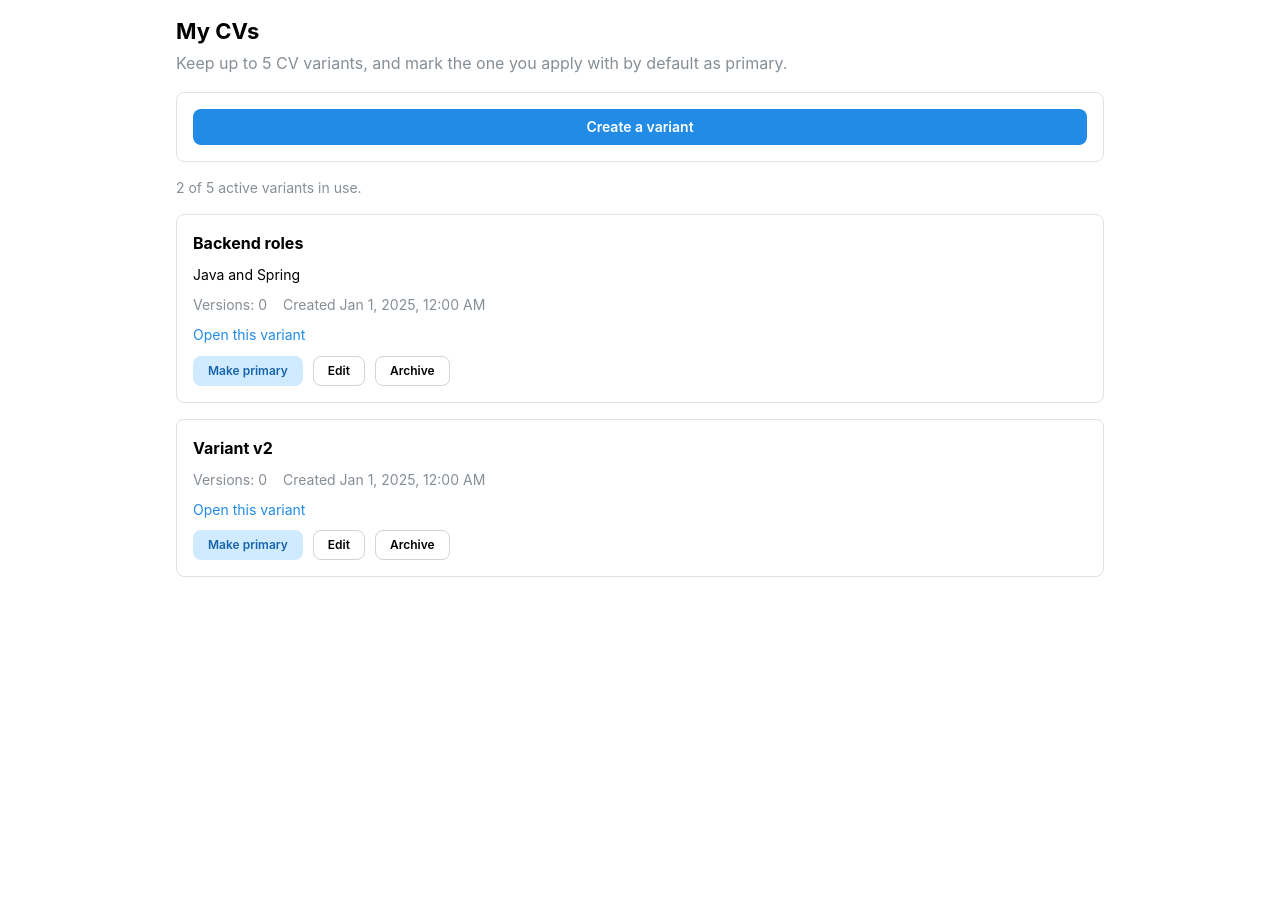
Test: the edit control (Req 11 AC4) › patches the changed name only
Click the button with test id "variant-edit-v1". click: [339, 371]
box: [313,356,365,386]
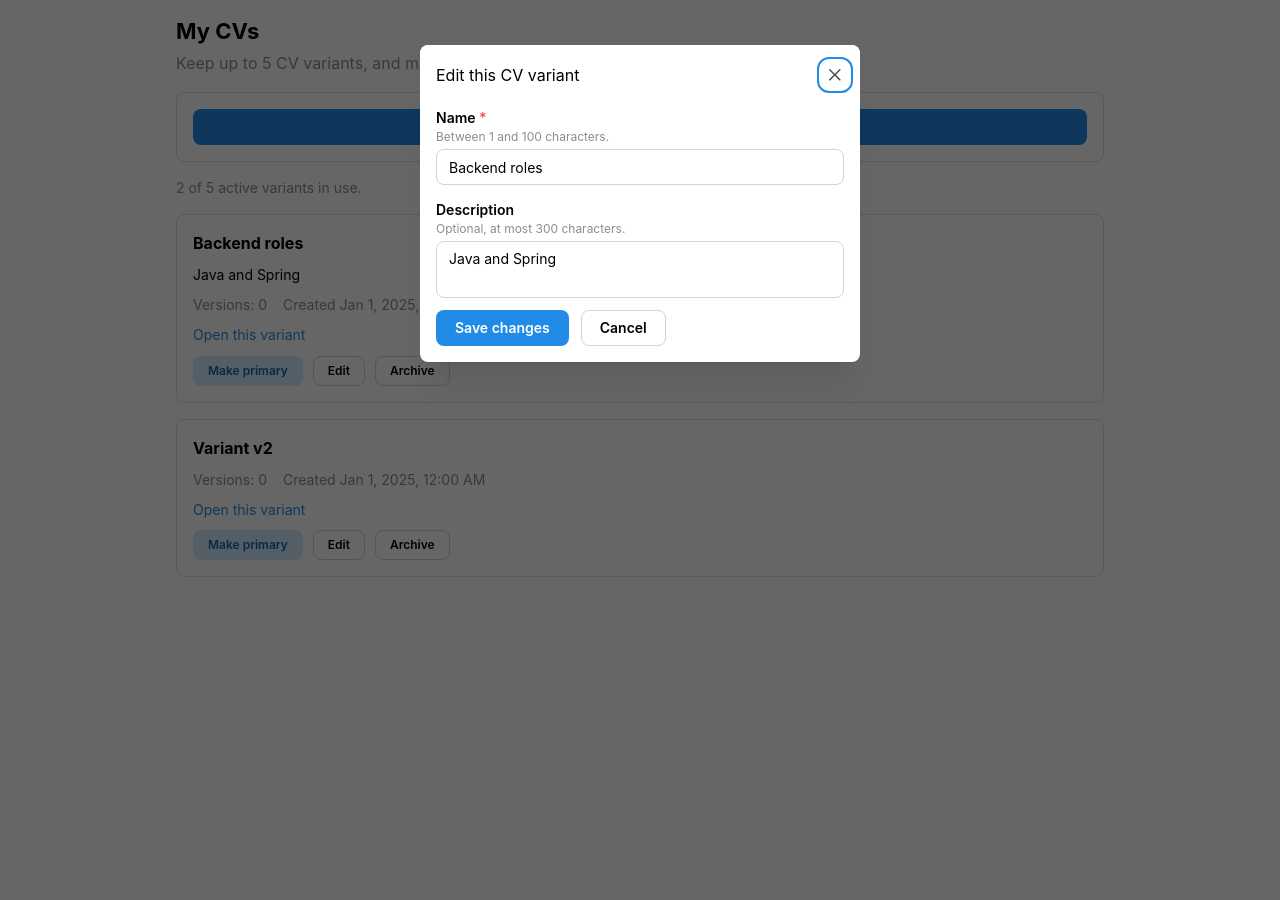
Clear the field with test id "variant-edit-name". click: [640, 167]
box: [436,149,844,185]
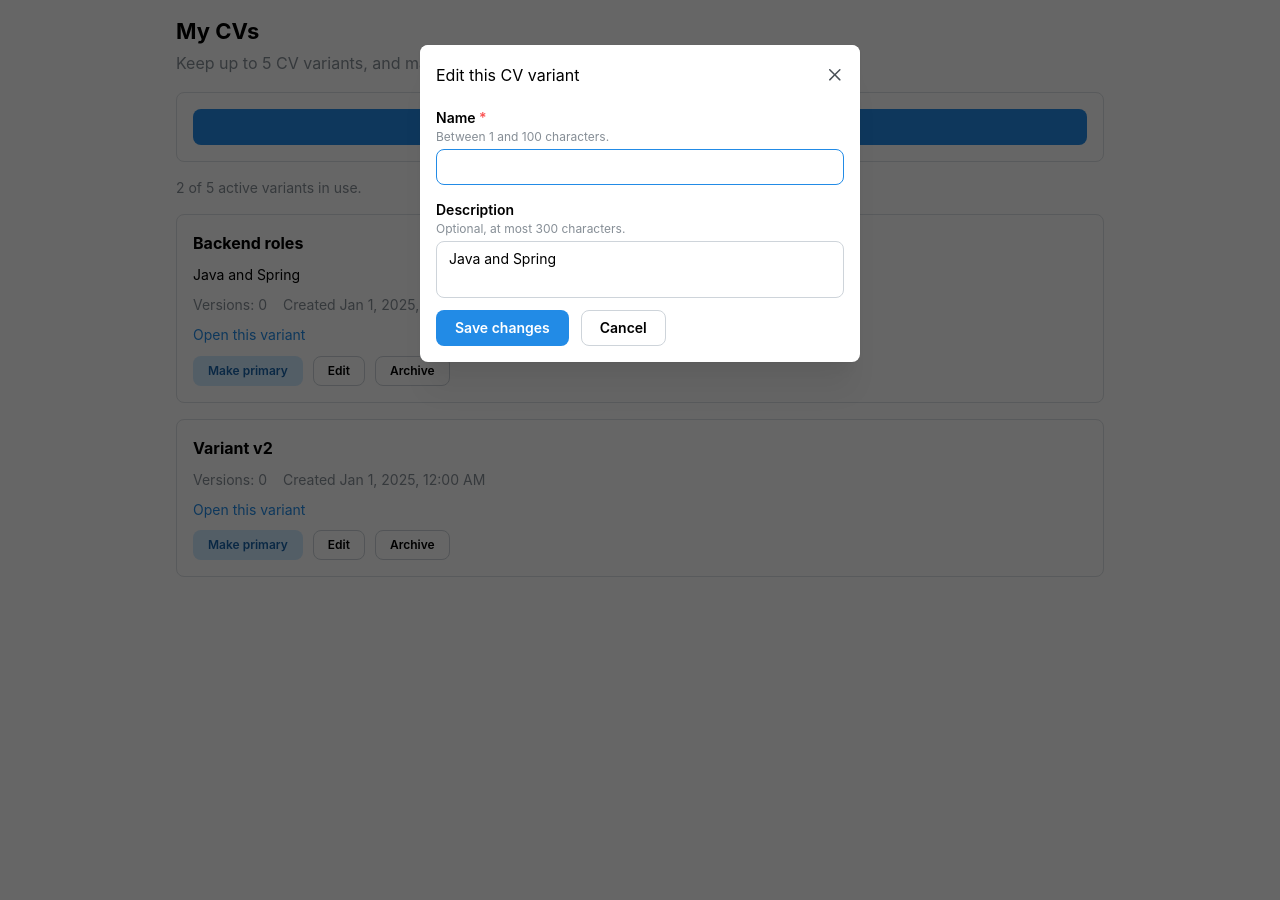
Type keys "Platform roles"
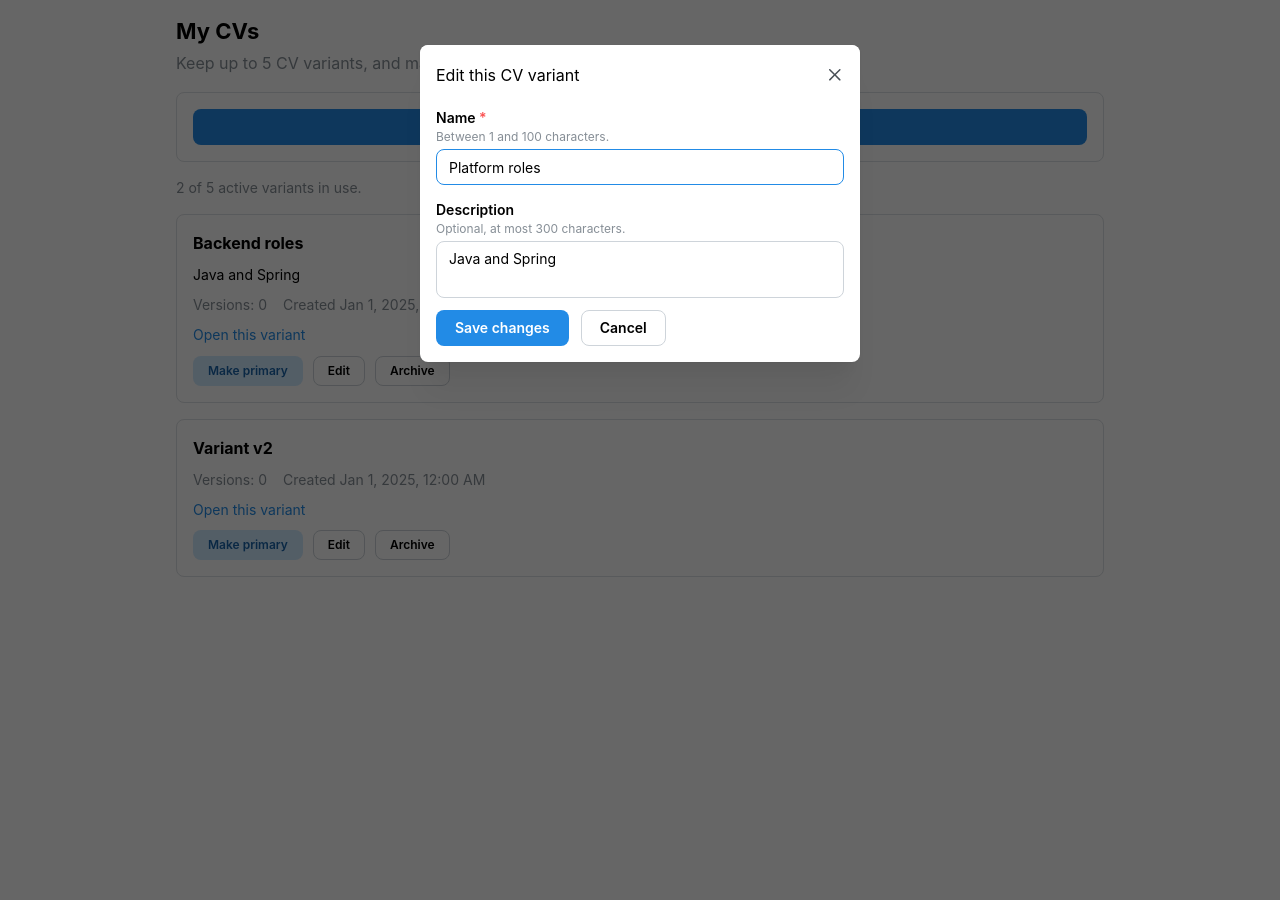
Click the button with test id "variant-edit-submit". click: [502, 328]
box: [436,310,569,346]
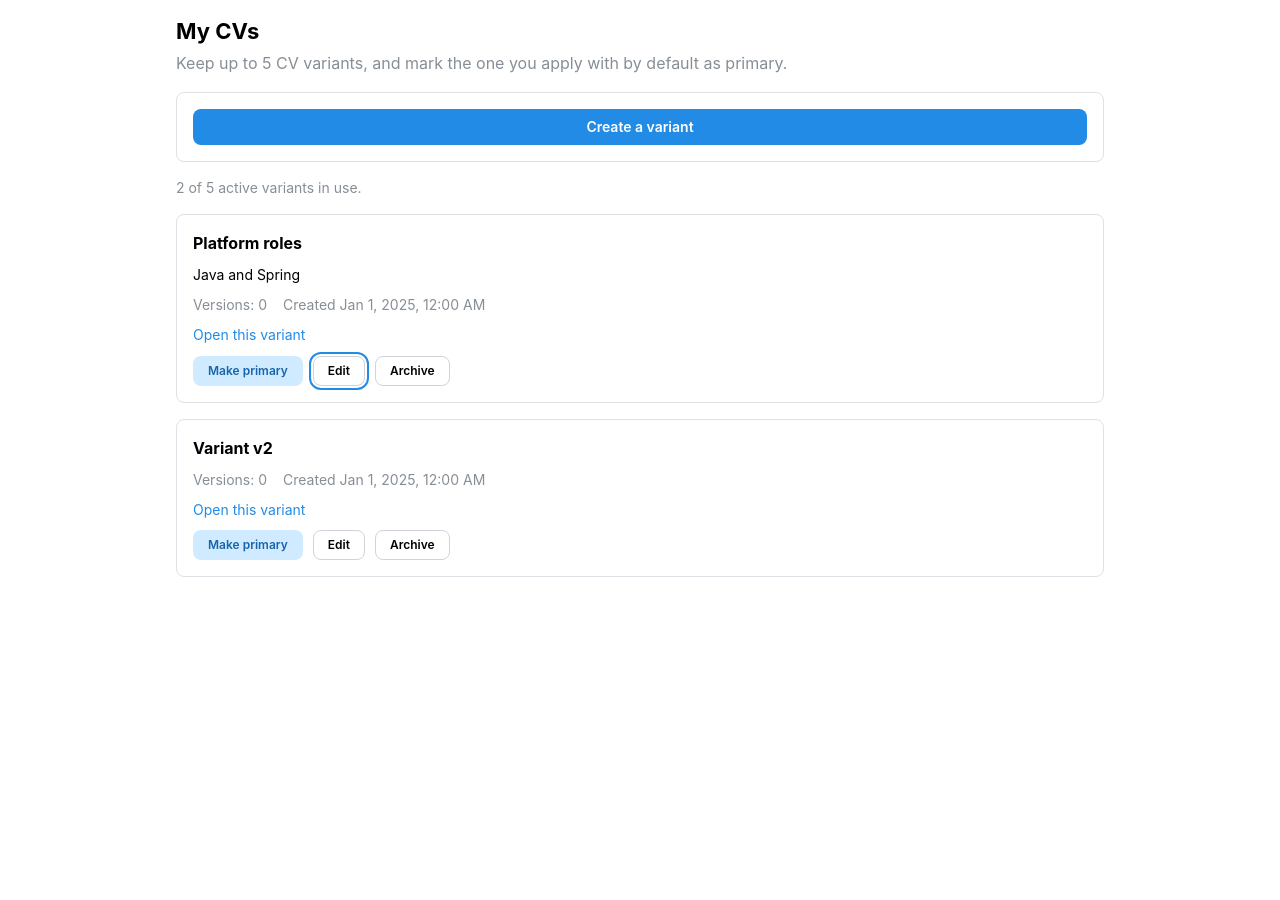
Expected: the heading with test id "variant-name-v1" reads "Platform roles", [193,233,302,253]
